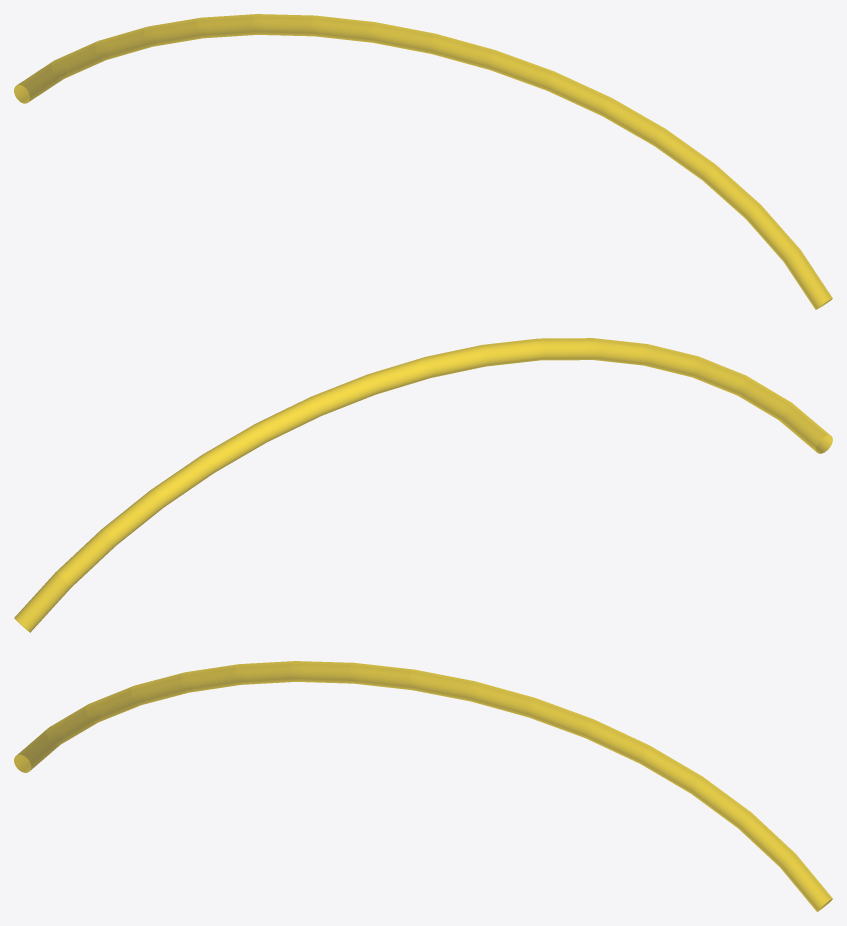
The model's file is Event_84804159_track_38.fbx.
The picture shows the model from 3 angles, top to bottom: view 1: azimuth 90°, elevation 25°; view 2: azimuth 150°, elevation 25°; view 3: azimuth 270°, elevation 25°; orthographic projection. The views are drawn at different scales.
Parts seen in each view (by area): view 1: Model; view 2: Model; view 3: Model.
Boxes of the visible parts, x1,y1,x2,y2 form: Model: (14,14,832,309); Model: (14,338,832,632); Model: (14,661,832,911).
Size of the model in its own units: 0.8338 by 0.3979 by 1.57.
